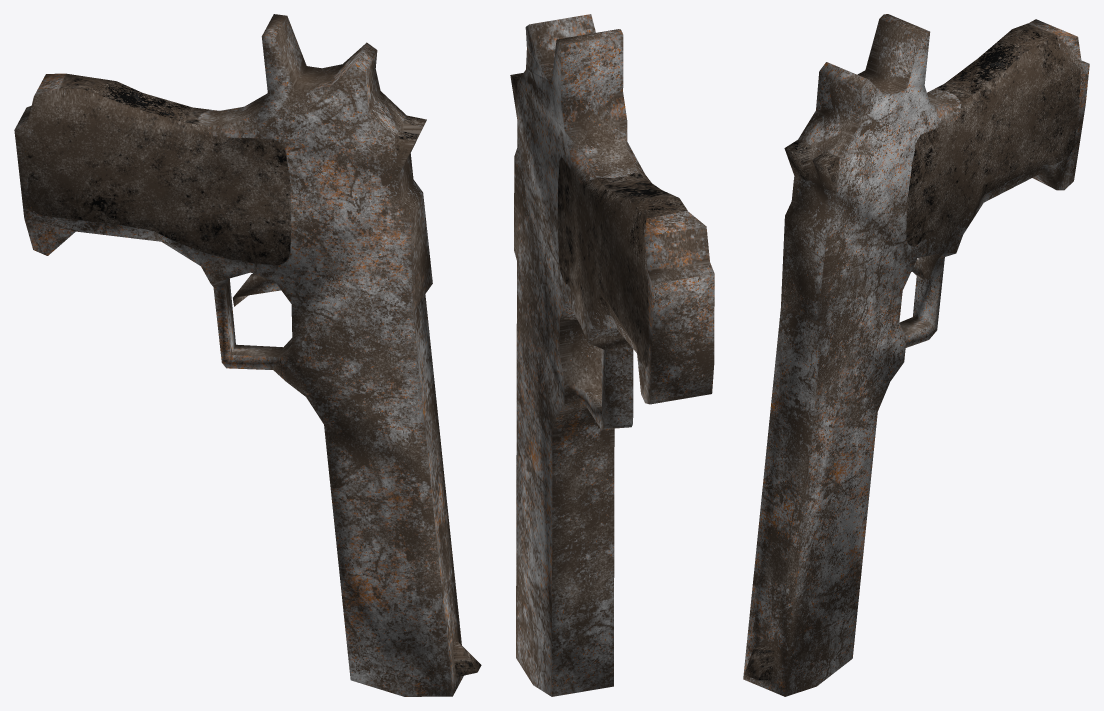
File: Anim_idle_pistola_objetos.0028.obj
The picture shows the model from 3 angles, left to right: view 1: azimuth 30°, elevation 25°; view 2: azimuth 150°, elevation 25°; view 3: azimuth 270°, elevation 25°; orthographic projection. The views are drawn at different scales.
Parts seen in each view (by area): view 1: Pistola1; view 2: Pistola1; view 3: Pistola1.
Boxes of the visible parts, box(x1,y1,x2,y2) form: Pistola1: box(14, 14, 481, 696); Pistola1: box(510, 14, 714, 696); Pistola1: box(743, 14, 1089, 696).
Size of the model in its own units: 0.8707 by 1.68 by 0.8549.
